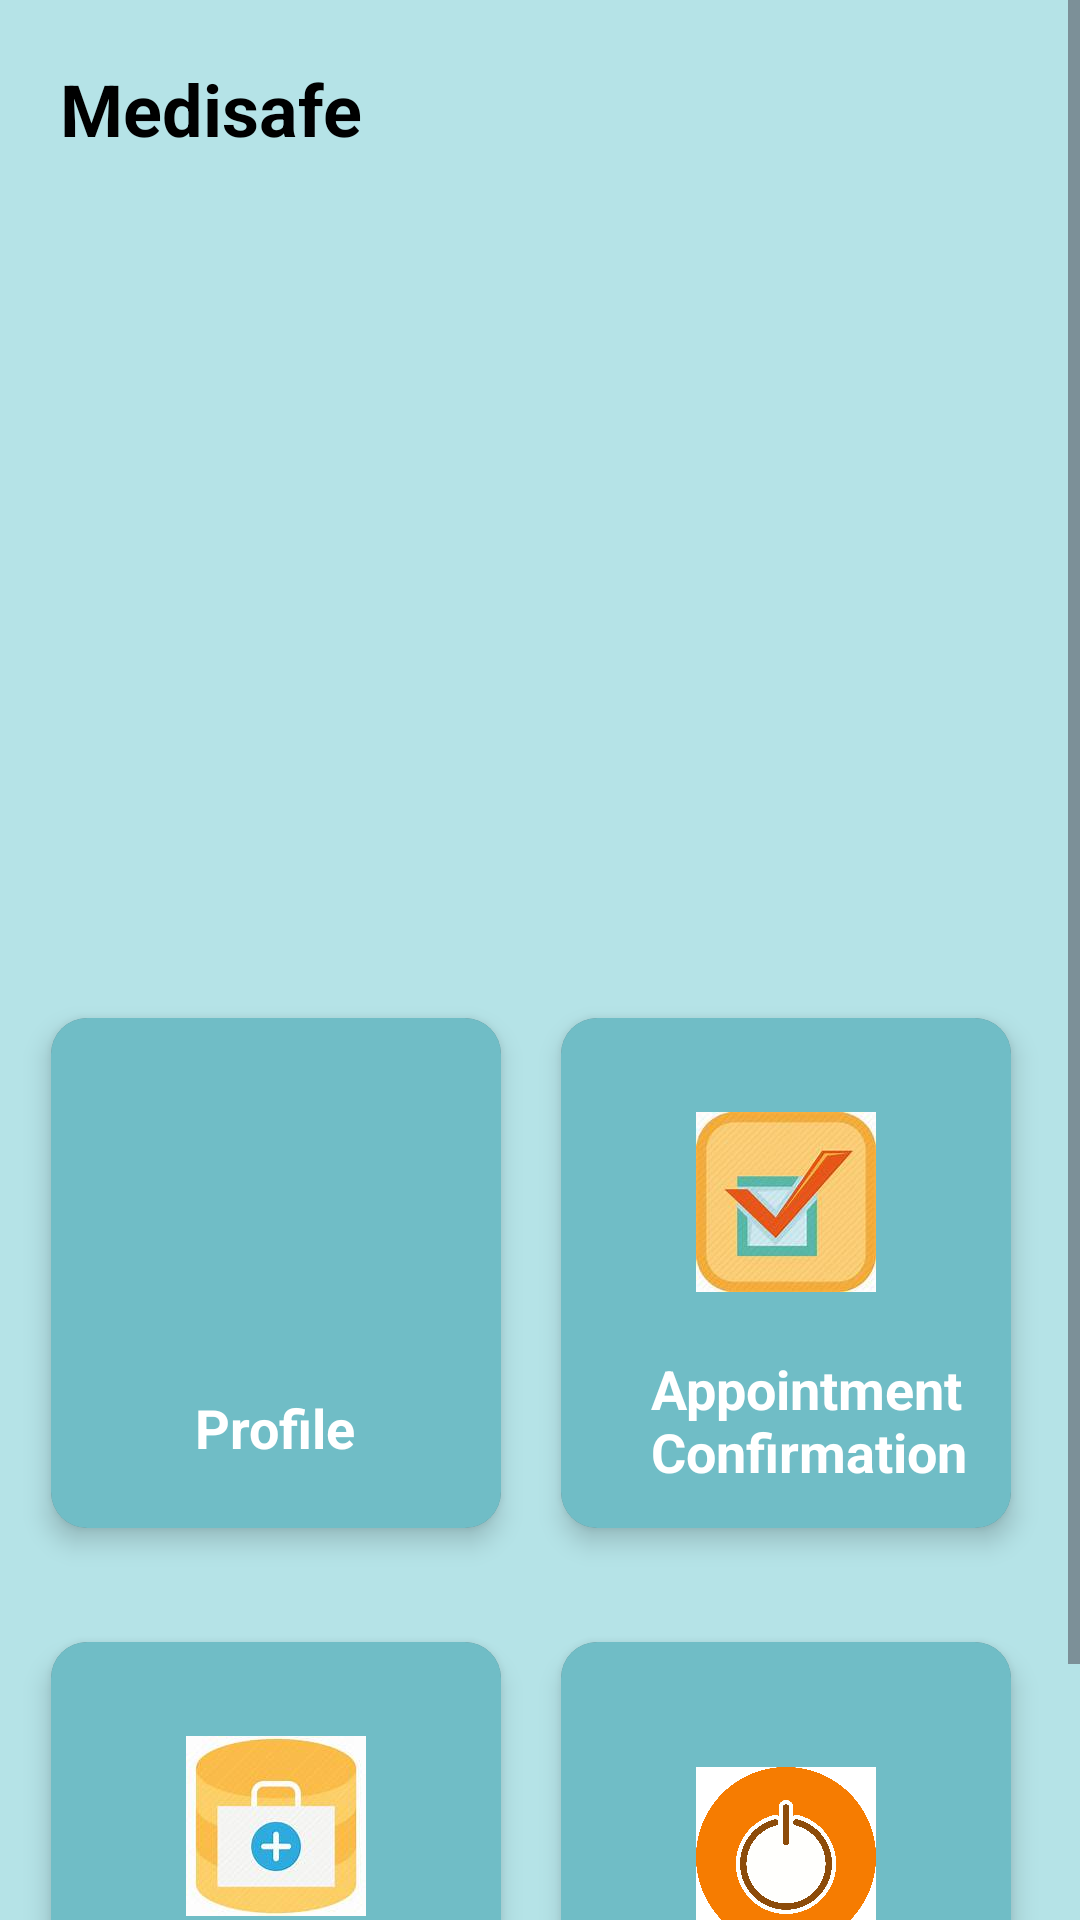

Locate icon controls on the screen. Image size 1080px x 1920px, boxes as (x1, y1, x2, y2).
patientdata: (186, 1736, 366, 1916)
